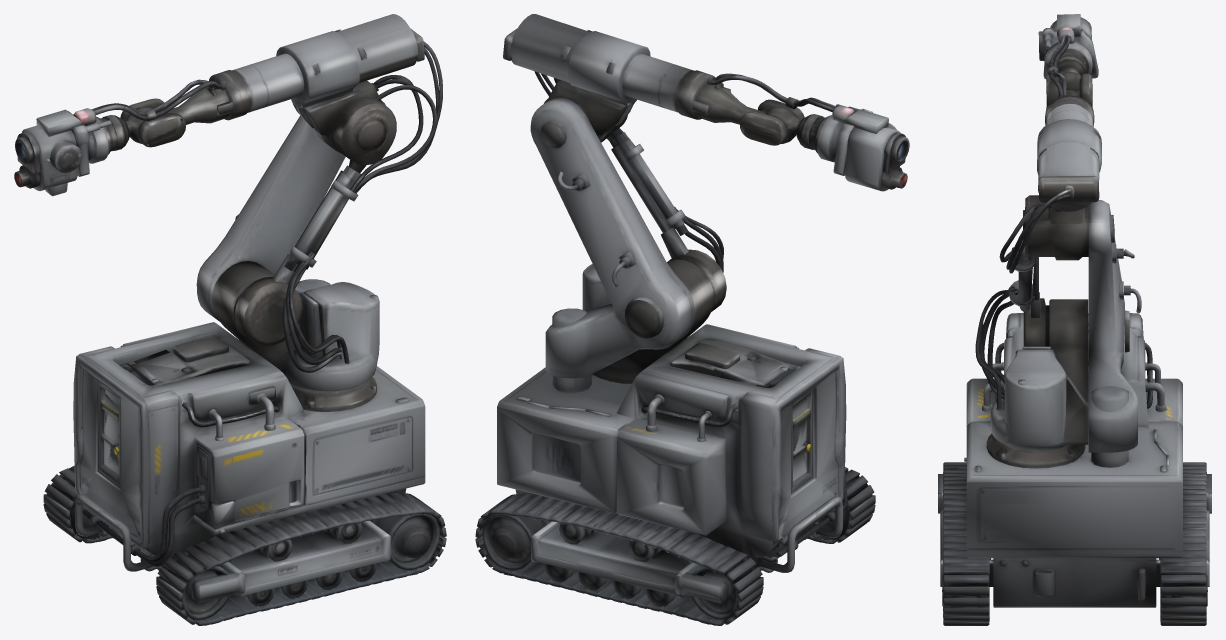
The model's file is laser 3d model v02.fbx.
3 renders of one model, left to right at view 1: azimuth 30°, elevation 25°; view 2: azimuth 150°, elevation 25°; view 3: azimuth 270°, elevation 25°, orthographic. The views are drawn at different scales.
Visible parts, largest first — view 1: tripo_part_2, tripo_part_23, tripo_part_0, tripo_part_17, tripo_part_8, Laser, tripo_part_1, Base_1, tripo_part_45, tripo_part_6, tripo_part_10, tripo_part_5 (+3 smaller); view 2: tripo_part_2, tripo_part_23, tripo_part_0, tripo_part_17, Laser, tripo_part_8, tripo_part_45, Base_1, tripo_part_6; view 3: tripo_part_2, tripo_part_23, tripo_part_8, tripo_part_0, tripo_part_17, Laser, tripo_part_1, tripo_part_5, Base_1, tripo_part_6, Cable, tripo_part_14.
Part boxes in pixels (box(x1,y1,x2,y2)): tripo_part_2: box(62, 322, 439, 620); tripo_part_23: box(196, 80, 396, 346); tripo_part_0: box(43, 465, 446, 625); tripo_part_17: box(209, 14, 424, 120); tripo_part_8: box(211, 261, 379, 411); Laser: box(14, 107, 152, 196); tripo_part_1: box(353, 41, 442, 193); Base_1: box(120, 98, 185, 147); tripo_part_45: box(166, 80, 233, 124); tripo_part_6: box(92, 79, 221, 120); tripo_part_10: box(350, 75, 423, 191); tripo_part_5: box(289, 252, 349, 363); tripo_part_2: box(482, 324, 856, 620); tripo_part_23: box(530, 79, 726, 392); tripo_part_0: box(475, 467, 875, 625); tripo_part_17: box(503, 14, 715, 119); Laser: box(766, 104, 909, 191); tripo_part_8: box(582, 259, 714, 383); tripo_part_45: box(692, 74, 767, 124); Base_1: box(740, 97, 804, 145); tripo_part_6: box(711, 73, 836, 112); tripo_part_2: box(938, 313, 1211, 607); tripo_part_23: box(1009, 195, 1141, 467); tripo_part_8: box(986, 299, 1088, 468); tripo_part_0: box(943, 462, 1206, 625); tripo_part_17: box(1037, 95, 1101, 211); Laser: box(1038, 14, 1098, 96); tripo_part_1: box(999, 189, 1070, 273); tripo_part_5: box(975, 287, 1012, 409); Base_1: box(1046, 65, 1092, 106); tripo_part_6: box(1049, 35, 1070, 96); Cable: box(982, 286, 1014, 396); tripo_part_14: box(987, 288, 1018, 399).
Size of the model in its own units: 0.8462 by 0.9995 by 0.5161.
